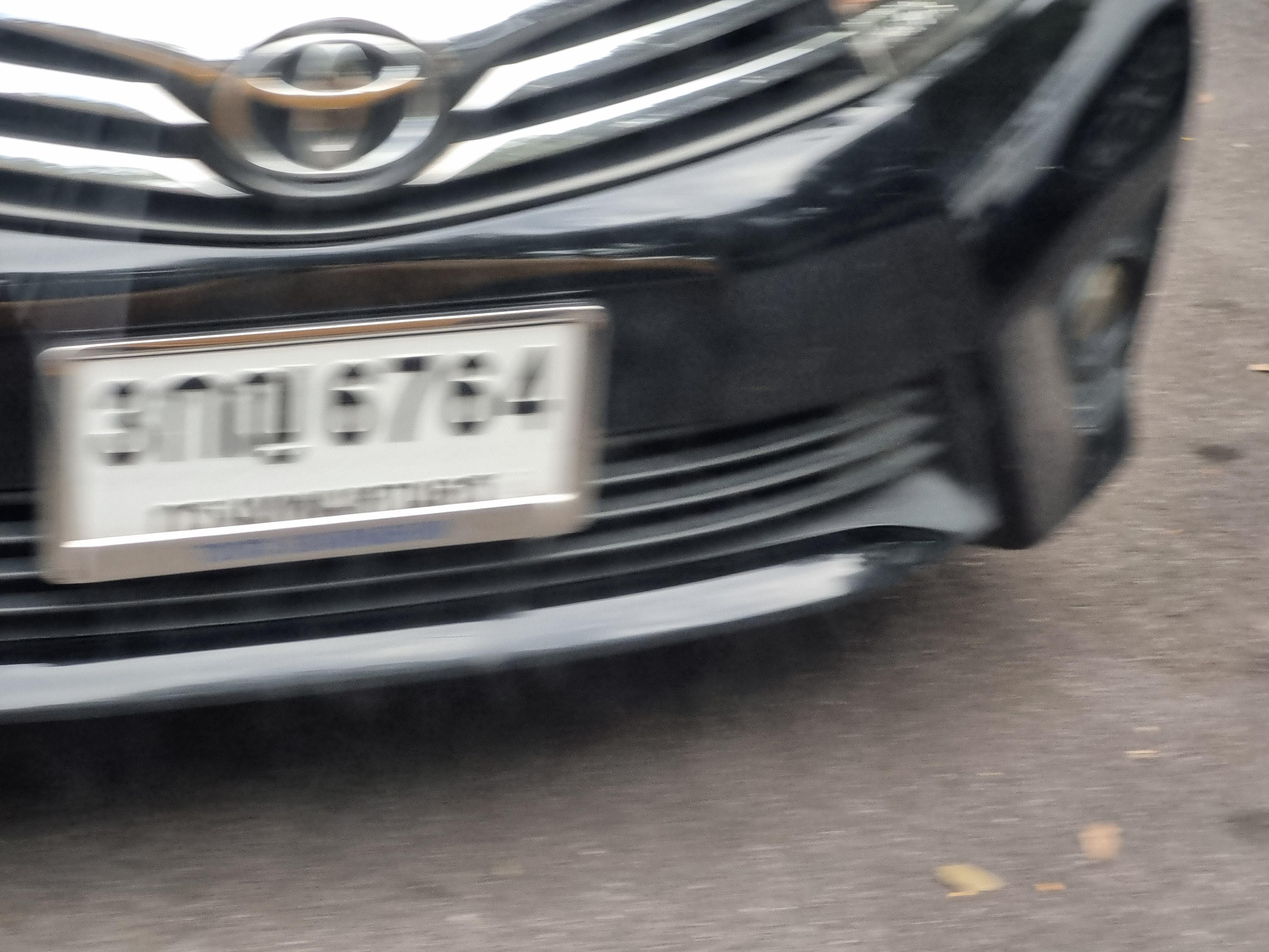license-plate: (28, 297, 619, 587)
